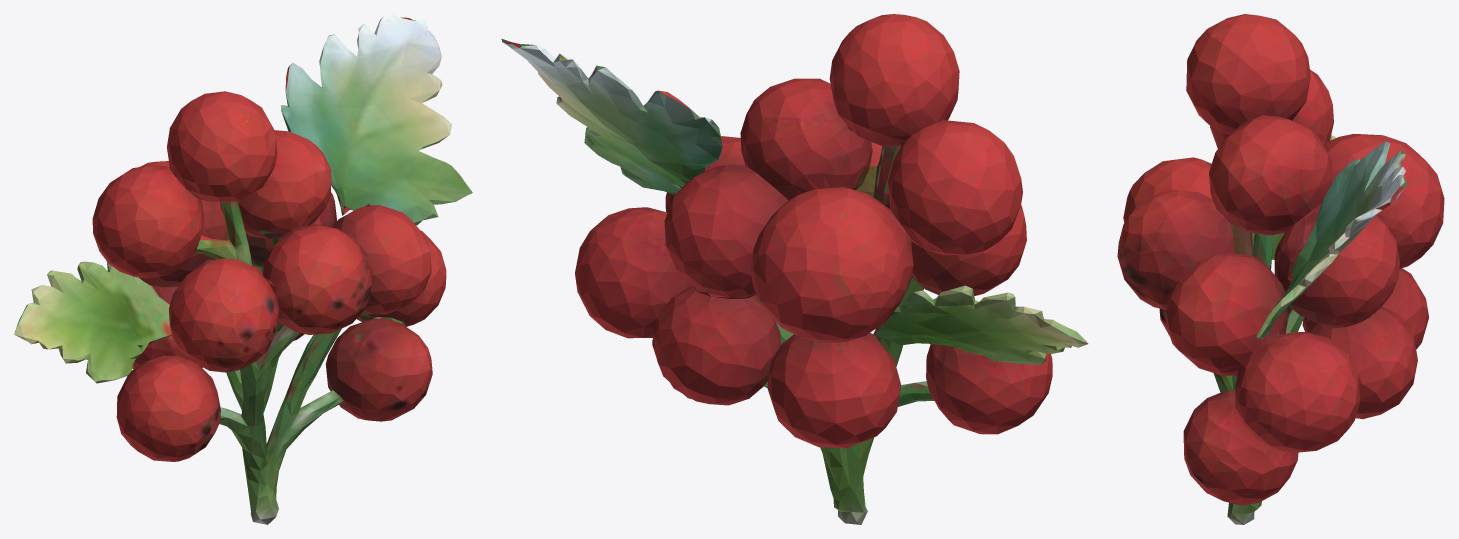
Rendered from berries.glb.
3 renders of one model, left to right at view 1: azimuth 30°, elevation 25°; view 2: azimuth 150°, elevation 25°; view 3: azimuth 270°, elevation 25°, orthographic. The views are drawn at different scales.
Parts seen in each view (by area): view 1: tmpsv_i77k3.ply; view 2: tmpsv_i77k3.ply; view 3: tmpsv_i77k3.ply.
Boxes of the visible parts, box(x1,y1,x2,y2) form: tmpsv_i77k3.ply: box(14, 14, 472, 524); tmpsv_i77k3.ply: box(501, 14, 1088, 524); tmpsv_i77k3.ply: box(1117, 14, 1444, 524).
Size of the model in its own units: 2 by 1.83 by 1.12.
1 material, 1 textured.
